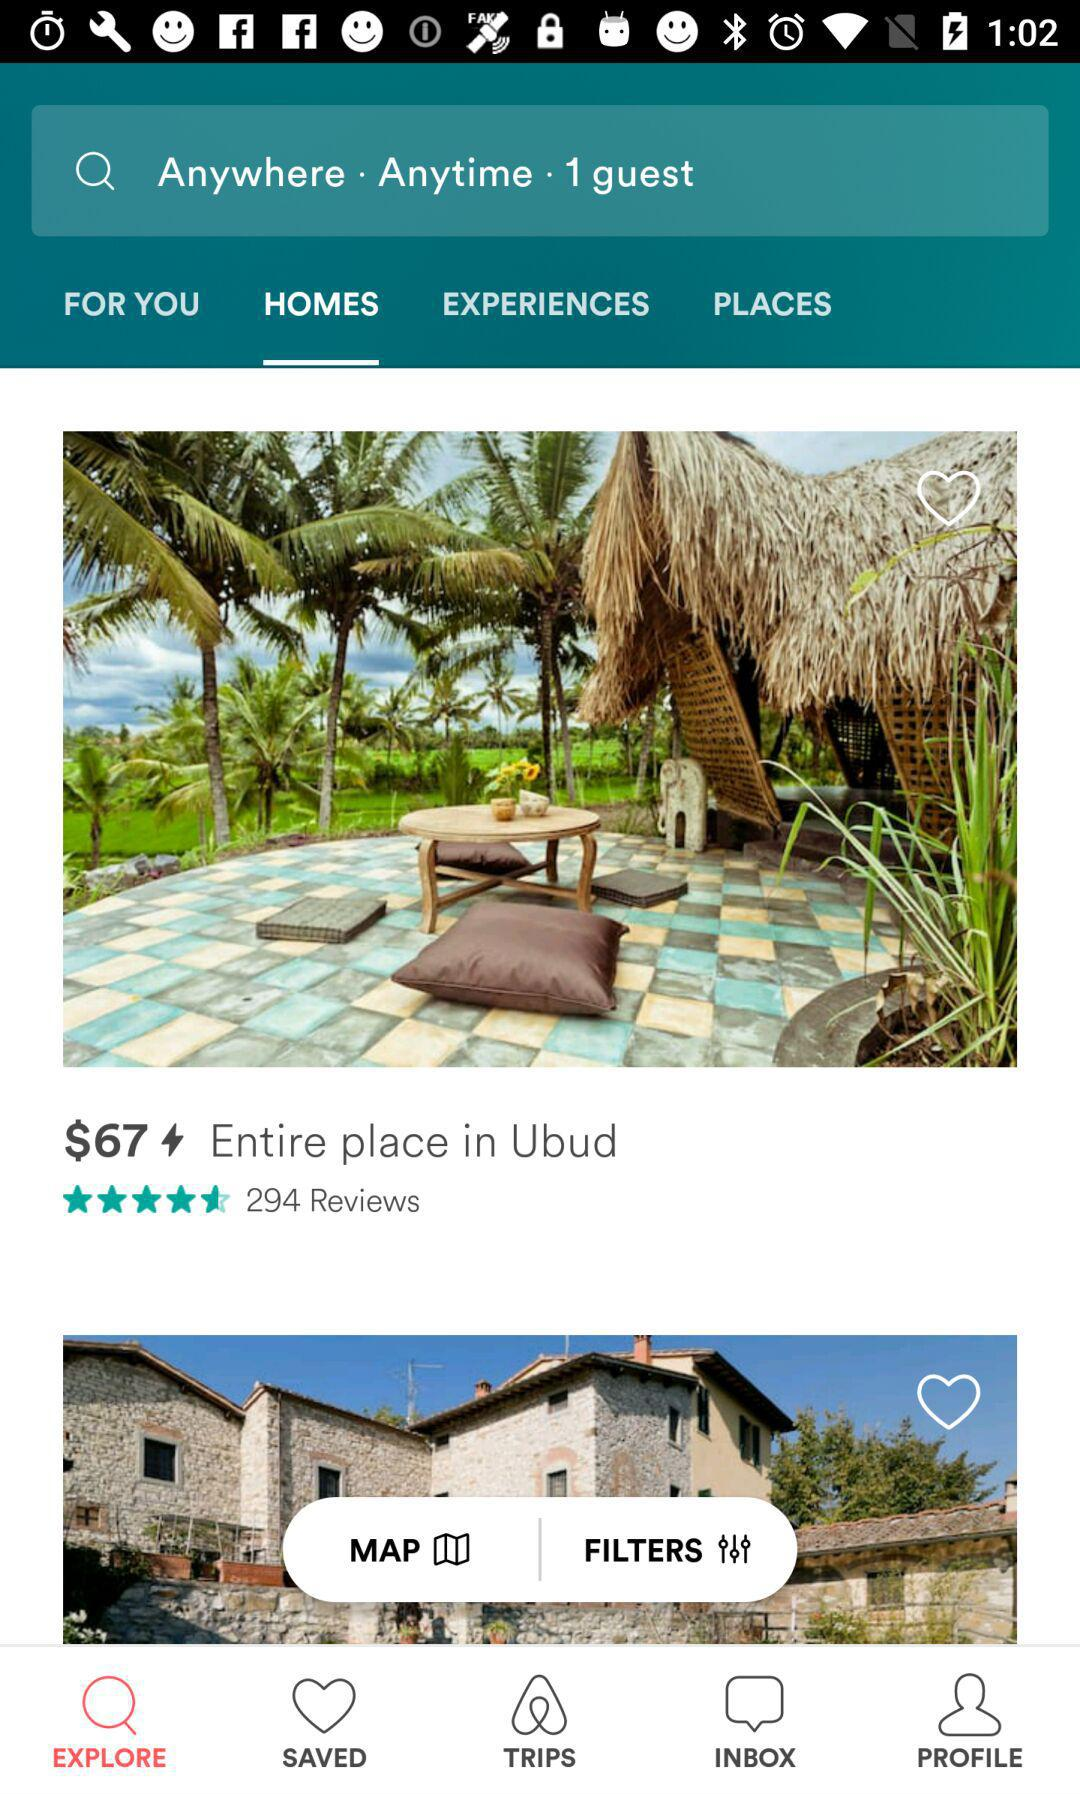EditText: (32, 105, 1051, 238)
Icon: (911, 1369, 989, 1435), (63, 1184, 232, 1215), (937, 1672, 1002, 1738), (292, 1677, 357, 1735), (917, 472, 983, 528), (725, 1675, 785, 1734), (82, 1675, 138, 1738), (76, 152, 117, 192)
Image: (63, 431, 1017, 1067), (63, 1335, 1019, 1645), (511, 1674, 569, 1736)
Text: (65, 1119, 618, 1167), (158, 158, 694, 197), (443, 292, 650, 318), (247, 1187, 421, 1214), (65, 292, 200, 318), (714, 292, 831, 318), (265, 292, 379, 318), (53, 1747, 168, 1768), (917, 1747, 1024, 1768), (283, 1747, 368, 1768), (715, 1747, 798, 1768), (503, 1747, 577, 1768)
TextButton: (283, 1497, 541, 1603), (541, 1497, 798, 1603)
UpperTaskBar: (1, 1, 1080, 64)
